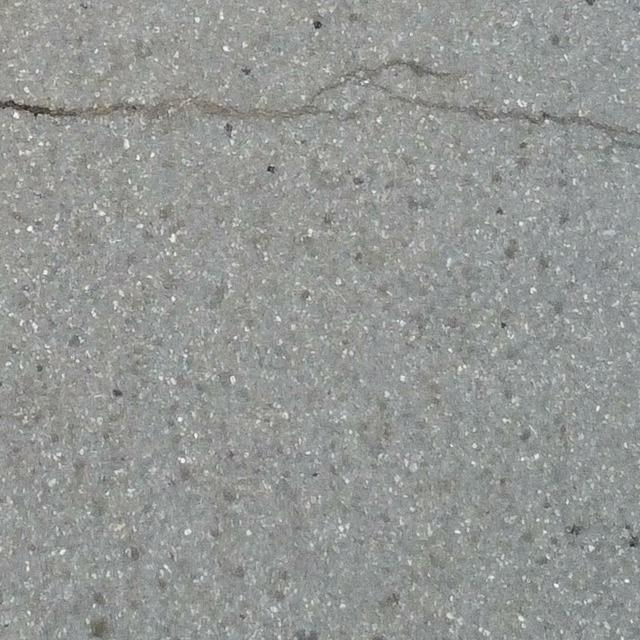TransverseCrack: (2, 59, 640, 147)
